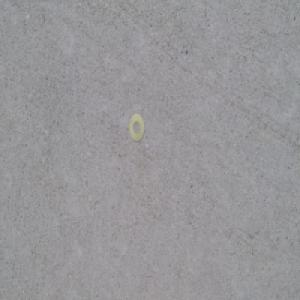Washer: (128, 113, 144, 141)
